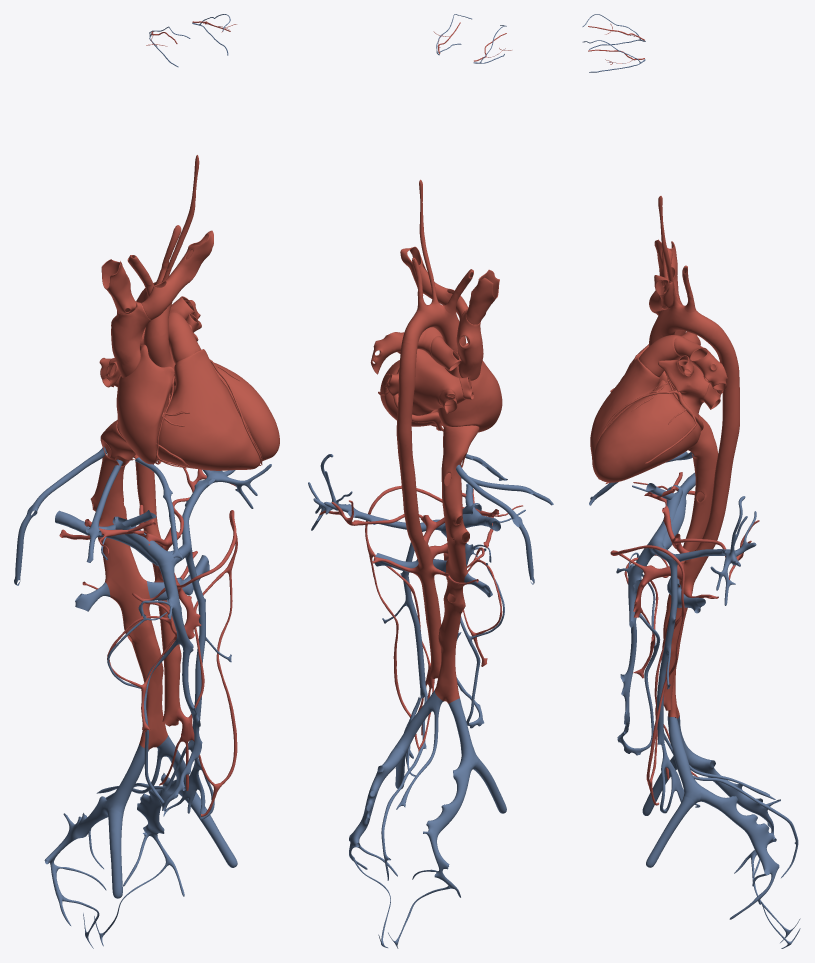
File: cardiovascular.glb
3 views of the same model, side by side, from view 1: azimuth 30°, elevation 25°; view 2: azimuth 150°, elevation 25°; view 3: azimuth 270°, elevation 25° (orthographic). The views are drawn at different scales.
Visible parts, largest first — view 1: heart right ventricle, inferior vena cava (×2), right cardiac atrium, descending aorta, superior mesenteric artery (×2), heart left ventricle, internal iliac vein (×2), Left brachiocephalic vein, superior vena cava, external iliac vein (×2), splenic vein, marginal colic artery (+15 smaller); view 2: inferior vena cava (×2), descending aorta (×2), internal iliac vein (×2), right cardiac atrium, left cardiac atrium, arch of aorta, superior vena cava, splenic vein, Left brachiocephalic vein, Right brachiocephalic vein, marginal colic artery, inferior mesenteric vein (+8 smaller); view 3: heart left ventricle, descending aorta (×2), internal iliac vein (×2), inferior vena cava (×2), superior mesenteric artery (×2), heart right ventricle, arch of aorta, splenic vein, left cardiac atrium, left pulmonary artery, inferior mesenteric vein, marginal colic artery (+10 smaller).
Boxes of the visible parts, <box> form: heart right ventricle: <box>156,349,260,470</box>; inferior vena cava (×2): <box>90,420,167,749</box>; right cardiac atrium: <box>116,344,174,464</box>; descending aorta: <box>135,459,181,726</box>; superior mesenteric artery (×2): <box>157,562,202,808</box>; heart left ventricle: <box>170,362,279,460</box>; internal iliac vein (×2): <box>44,773,175,874</box>; Left brachiocephalic vein: <box>141,230,213,320</box>; superior vena cava: <box>111,301,151,377</box>; external iliac vein (×2): <box>107,792,237,898</box>; splenic vein: <box>169,464,271,565</box>; marginal colic artery: <box>178,510,237,816</box>; inferior vena cava (×2): <box>434,425,479,703</box>; descending aorta (×2): <box>396,342,441,678</box>; internal iliac vein (×2): <box>349,748,473,879</box>; right cardiac atrium: <box>437,343,502,432</box>; left cardiac atrium: <box>397,349,465,415</box>; arch of aorta: <box>402,303,464,347</box>; superior vena cava: <box>456,309,483,380</box>; splenic vein: <box>308,454,445,531</box>; Left brachiocephalic vein: <box>400,246,468,319</box>; Right brachiocephalic vein: <box>466,269,499,324</box>; marginal colic artery: <box>365,485,442,749</box>; inferior mesenteric vein: <box>400,542,427,698</box>; heart left ventricle: <box>593,380,700,482</box>; descending aorta (×2): <box>661,333,739,710</box>; internal iliac vein (×2): <box>688,753,780,877</box>; inferior vena cava (×2): <box>663,414,718,718</box>; superior mesenteric artery (×2): <box>617,542,683,749</box>; heart right ventricle: <box>590,358,659,473</box>; arch of aorta: <box>651,304,724,346</box>; splenic vein: <box>649,496,756,605</box>; left cardiac atrium: <box>658,360,709,417</box>; left pulmonary artery: <box>674,336,727,390</box>; inferior mesenteric vein: <box>657,559,677,745</box>; marginal colic artery: <box>610,545,685,805</box>.
Size of the model in its own units: 0.2212 by 0.8166 by 0.1756.
